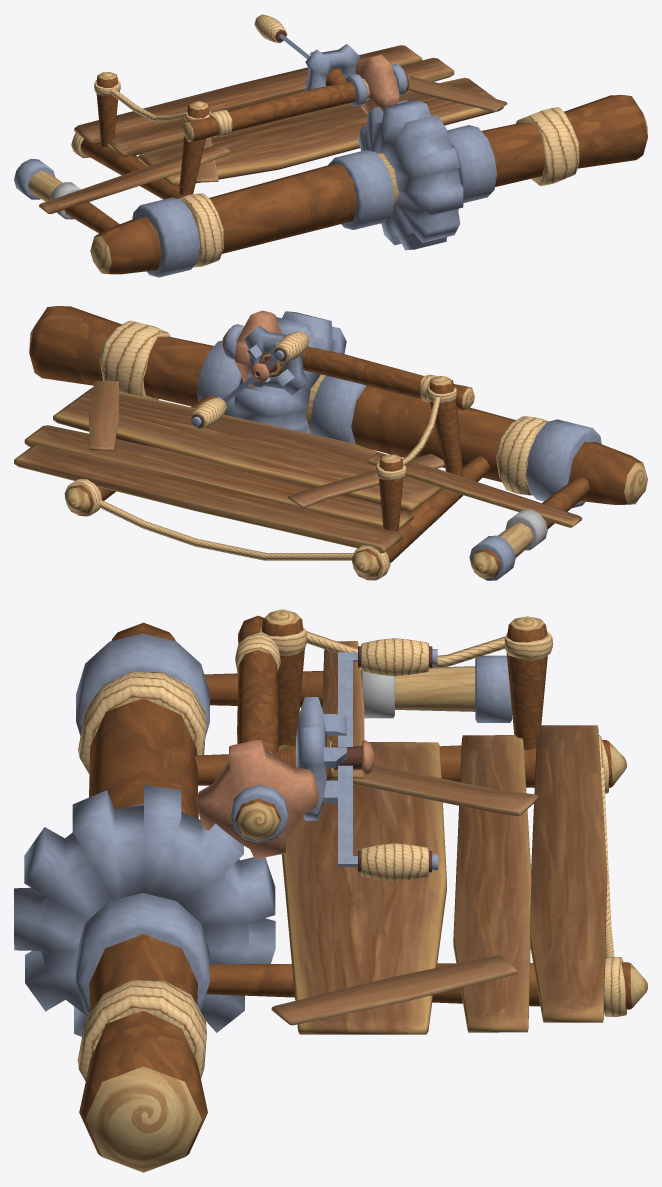
The model's file is Crankshaft_Lift.fbx.
3 renders of one model, top to bottom at view 1: azimuth 30°, elevation 25°; view 2: azimuth 150°, elevation 25°; view 3: azimuth 270°, elevation 25°, orthographic. The views are drawn at different scales.
Visible parts, largest first — view 1: polySurface907; view 2: polySurface907; view 3: polySurface907.
Boxes of the visible parts, box(x1,y1,x2,y2) form: polySurface907: box(14, 14, 647, 277); polySurface907: box(14, 306, 647, 580); polySurface907: box(14, 609, 647, 1172).
Bounding box in the file's own units: 63.15 × 20.85 × 35.41.
